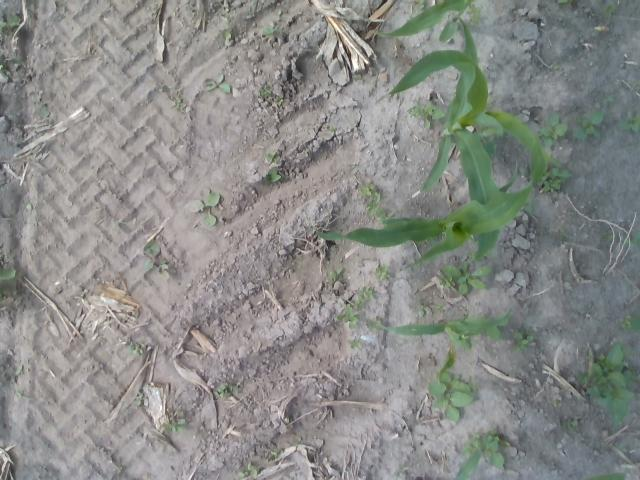Maize: (378, 17, 563, 193), (311, 169, 538, 270), (371, 302, 512, 352), (412, 448, 627, 480), (368, 0, 474, 43)
Weeds: (575, 340, 640, 426), (426, 368, 476, 422), (460, 431, 510, 470), (438, 261, 492, 294), (358, 182, 392, 224), (184, 188, 220, 227), (534, 112, 568, 147), (406, 101, 446, 129), (141, 238, 168, 276), (572, 110, 604, 140), (538, 166, 572, 194), (336, 304, 361, 331), (511, 328, 536, 352), (202, 74, 231, 94), (616, 110, 640, 134), (0, 12, 21, 34), (465, 0, 481, 26), (213, 382, 240, 397), (161, 418, 186, 434), (237, 462, 258, 480), (620, 315, 640, 333), (354, 286, 376, 302), (0, 263, 16, 284), (364, 315, 382, 333), (262, 168, 282, 184), (621, 230, 640, 246), (598, 4, 616, 20), (125, 342, 142, 358), (374, 264, 390, 281), (561, 417, 578, 432), (262, 24, 280, 36), (170, 99, 188, 111), (268, 448, 284, 461), (347, 338, 364, 350), (329, 267, 343, 281), (258, 84, 272, 98), (416, 299, 426, 318), (262, 150, 276, 163), (521, 197, 533, 212), (10, 56, 27, 66), (220, 28, 232, 42), (37, 106, 50, 118), (466, 249, 478, 260), (614, 442, 627, 452), (603, 95, 616, 104), (433, 302, 444, 312), (558, 228, 568, 239), (600, 232, 612, 241), (552, 0, 572, 5), (135, 394, 143, 406), (0, 61, 7, 74), (417, 0, 426, 10), (486, 250, 496, 258), (552, 60, 560, 70), (277, 93, 283, 106), (16, 363, 22, 374), (552, 398, 558, 408), (328, 126, 334, 132)
